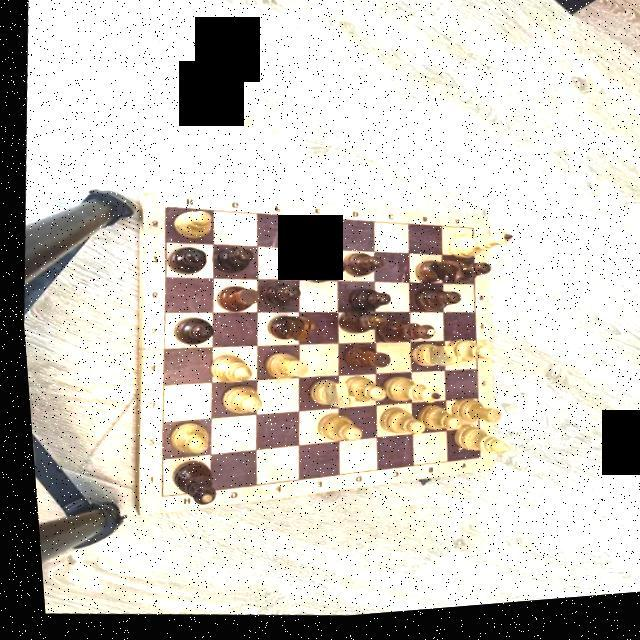chess-table-corners: (152, 202, 168, 215), (147, 491, 161, 503), (461, 231, 474, 241), (466, 460, 475, 469)
